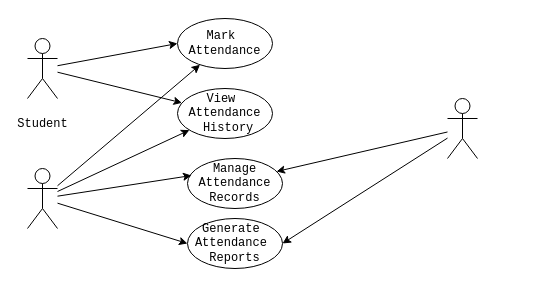
The diagram is 551 pixels wide and 294 high, and some of its shapes have lost their labels. The shapes that lost their labels are listed below. From the top down, each one's centre as x and y in pixels, then its label:
[462,128]: Admin/Program Office
[42,198]: Teacher
